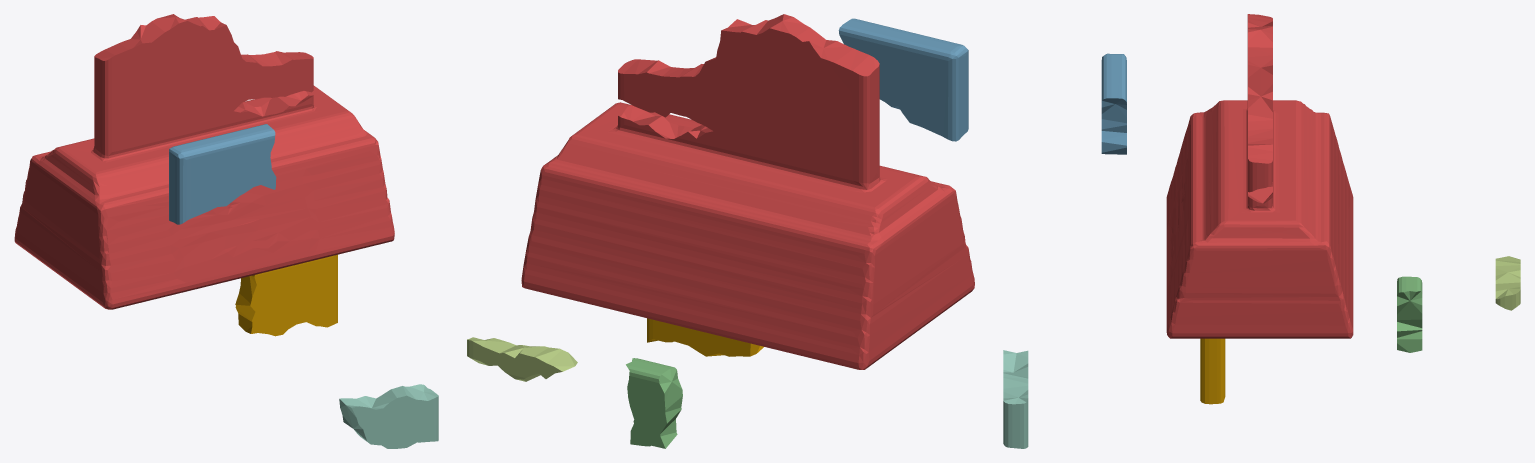
Rendered from fractured_3_6pcs_transformed.glb.
The picture shows the model from 3 angles, left to right: view 1: azimuth 30°, elevation 25°; view 2: azimuth 150°, elevation 25°; view 3: azimuth 270°, elevation 25°; orthographic projection. The views are drawn at different scales.
Visible parts, largest first — view 1: piece_1.obj, piece_2.obj, piece_0.obj, piece_4.obj; view 2: piece_1.obj, piece_2.obj, piece_3.obj, piece_5.obj, piece_0.obj; view 3: piece_1.obj, piece_2.obj, piece_4.obj, piece_3.obj, piece_0.obj, piece_5.obj.
Boxes of the visible parts, x1,y1,x2,y2 form: piece_1.obj: (14, 14, 394, 309); piece_2.obj: (169, 124, 276, 224); piece_0.obj: (235, 254, 337, 336); piece_4.obj: (339, 384, 438, 448); piece_1.obj: (521, 14, 974, 369); piece_2.obj: (838, 18, 968, 141); piece_3.obj: (626, 358, 682, 448); piece_5.obj: (467, 337, 577, 381); piece_0.obj: (647, 318, 763, 356); piece_1.obj: (1166, 14, 1353, 338); piece_2.obj: (1101, 53, 1126, 154); piece_4.obj: (1003, 350, 1028, 448); piece_3.obj: (1397, 276, 1422, 352); piece_0.obj: (1200, 338, 1225, 404); piece_5.obj: (1495, 256, 1520, 310).
Bounding box in the file's own units: 1 × 1.19 × 1.58.
